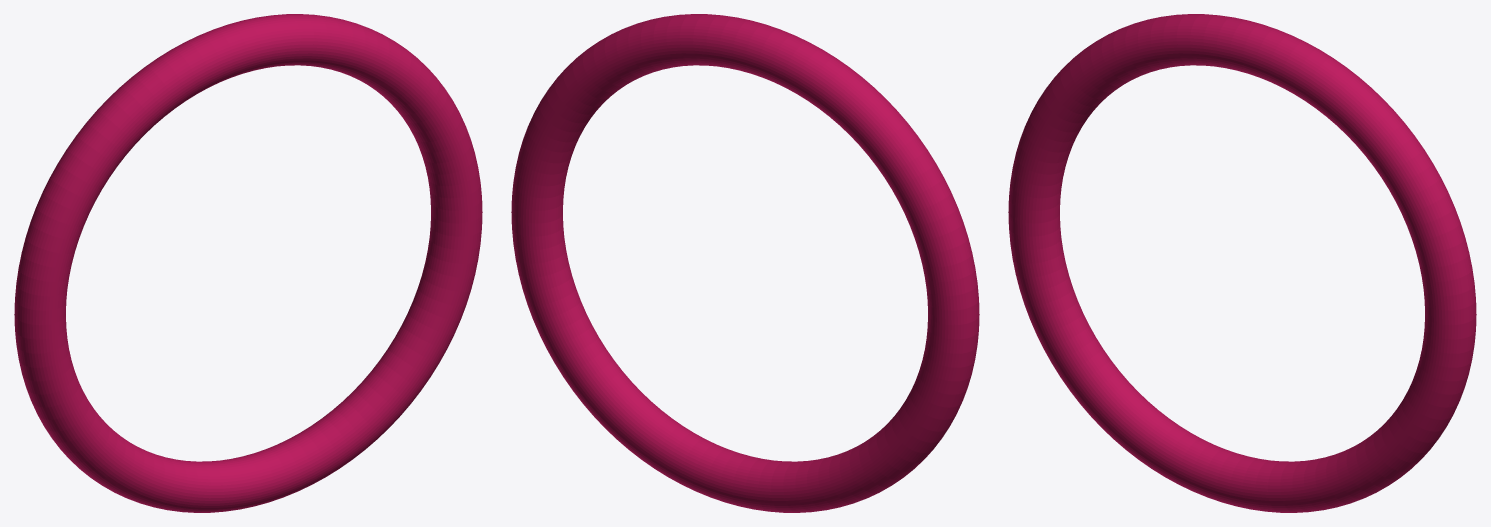
3 renders of one model, left to right at view 1: azimuth 30°, elevation 25°; view 2: azimuth 150°, elevation 25°; view 3: azimuth 330°, elevation 25°, orthographic.
Parts seen in each view (by area): view 1: world; view 2: world; view 3: world.
Part boxes in pixels (bbox=[...]): world: bbox=[14, 14, 482, 512]; world: bbox=[511, 14, 979, 512]; world: bbox=[1008, 14, 1476, 512].
Bounding box in the file's own units: 31.73 × 31.73 × 3.06.
